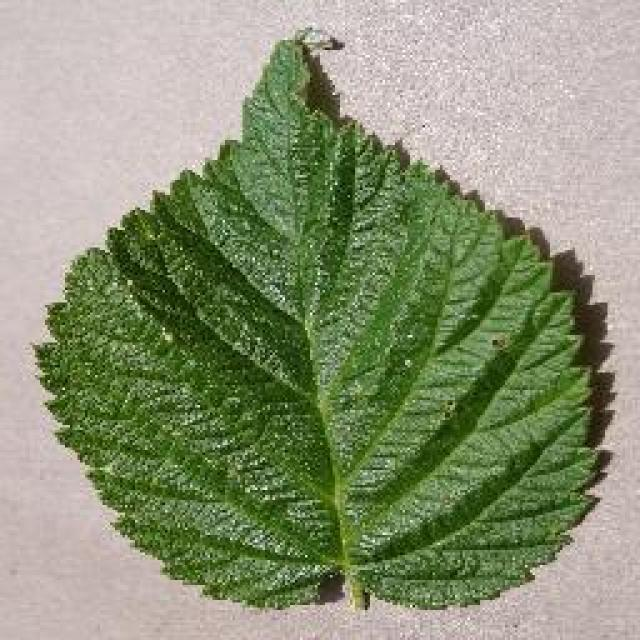Ras_healthy: (51, 122, 568, 560)
